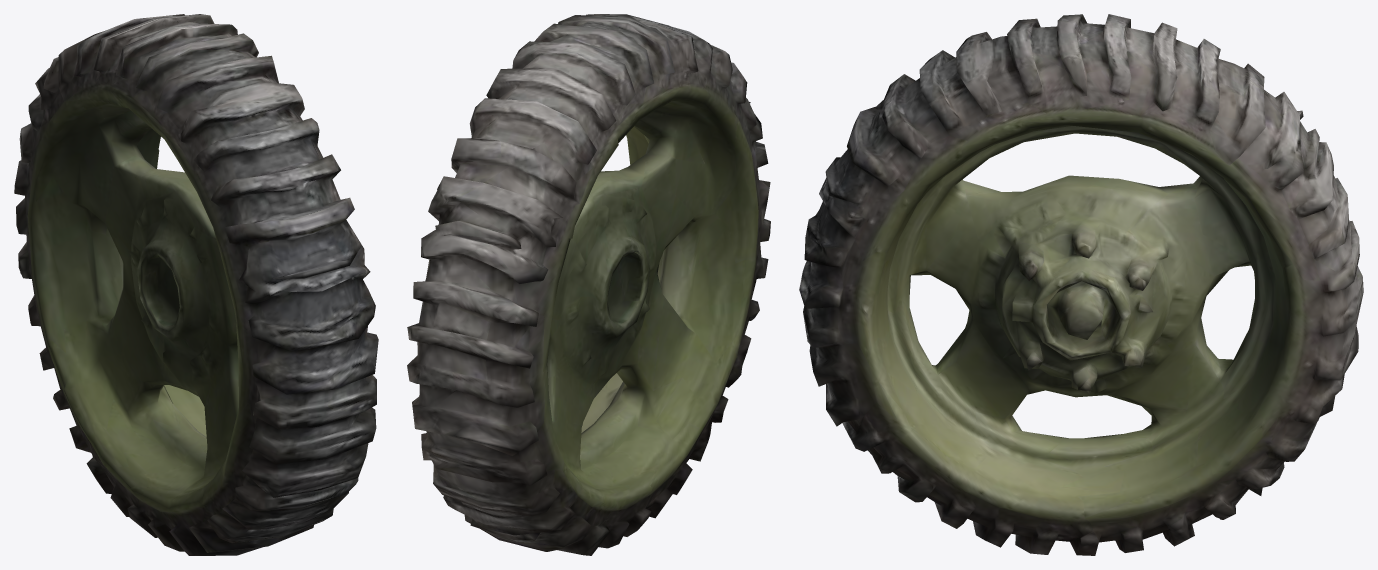
File: wh_stock.glb
The picture shows the model from 3 angles, left to right: view 1: azimuth 30°, elevation 25°; view 2: azimuth 150°, elevation 25°; view 3: azimuth 270°, elevation 25°; orthographic projection. The views are drawn at different scales.
Visible parts, largest first — view 1: tripo_node_738158da-0b24-4c88-839c-6a306c17ef50; view 2: tripo_node_738158da-0b24-4c88-839c-6a306c17ef50; view 3: tripo_node_738158da-0b24-4c88-839c-6a306c17ef50.
Part boxes in pixels (box(x1,y1,x2,y2)): tripo_node_738158da-0b24-4c88-839c-6a306c17ef50: box(14, 14, 378, 555); tripo_node_738158da-0b24-4c88-839c-6a306c17ef50: box(407, 14, 770, 555); tripo_node_738158da-0b24-4c88-839c-6a306c17ef50: box(799, 14, 1363, 555).
Size of the model in its own units: 0.2909 by 0.9777 by 0.9818.
Materials: 1 (1 with a texture image).
